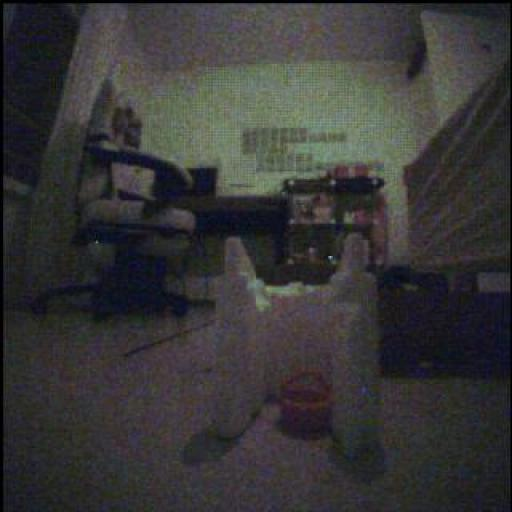basket: (283, 372, 334, 435)
